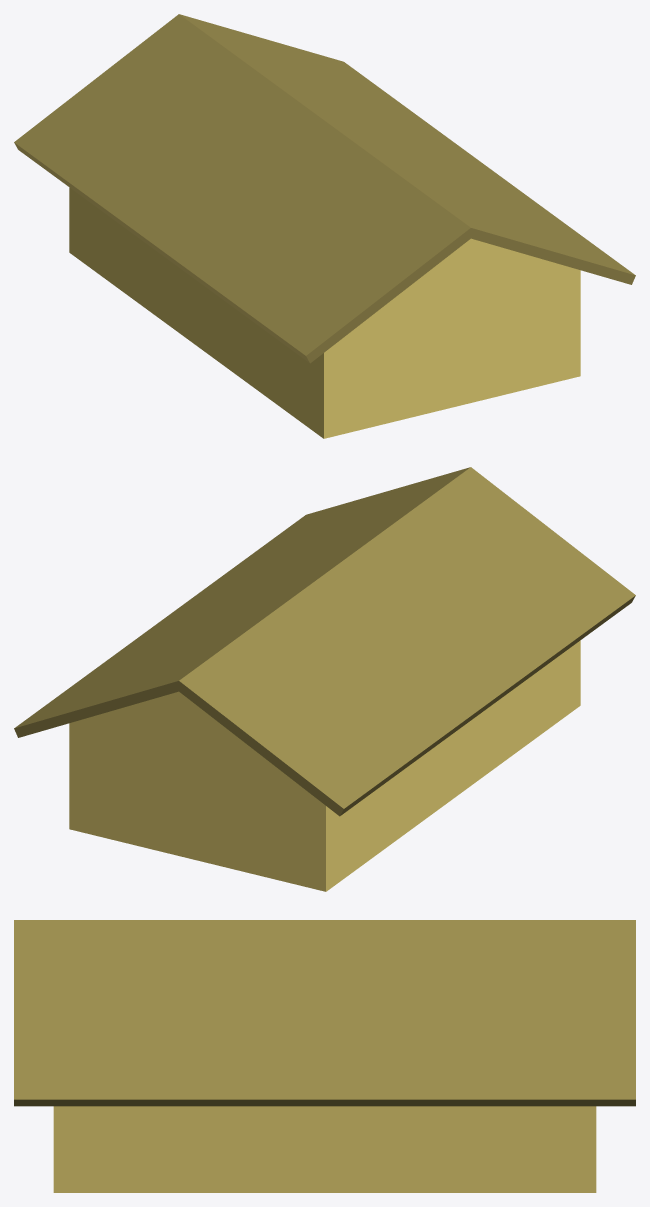
The model's file is result.glb.
3 renders of one model, top to bottom at view 1: azimuth 30°, elevation 25°; view 2: azimuth 150°, elevation 25°; view 3: azimuth 270°, elevation 25°, orthographic. The views are drawn at different scales.
Parts seen in each view (by area): view 1: 37c07c59-ff2e-4d71-af99-8058fc947884__undefined (×2), 3771a0a1-4f4e-4d2d-9a42-c2e631290448__undefined; view 2: 37c07c59-ff2e-4d71-af99-8058fc947884__undefined (×2), 3771a0a1-4f4e-4d2d-9a42-c2e631290448__undefined; view 3: 37c07c59-ff2e-4d71-af99-8058fc947884__undefined, 3771a0a1-4f4e-4d2d-9a42-c2e631290448__undefined.
Part boxes in pixels (<box>): 37c07c59-ff2e-4d71-af99-8058fc947884__undefined (×2): <box>14,14,635,363</box>; 3771a0a1-4f4e-4d2d-9a42-c2e631290448__undefined: <box>69,187,580,438</box>; 37c07c59-ff2e-4d71-af99-8058fc947884__undefined (×2): <box>14,467,635,816</box>; 3771a0a1-4f4e-4d2d-9a42-c2e631290448__undefined: <box>69,640,580,891</box>; 37c07c59-ff2e-4d71-af99-8058fc947884__undefined: <box>14,920,635,1106</box>; 3771a0a1-4f4e-4d2d-9a42-c2e631290448__undefined: <box>53,1106,596,1192</box>.
Size of the model in its own units: 898 by 503 by 1376.
